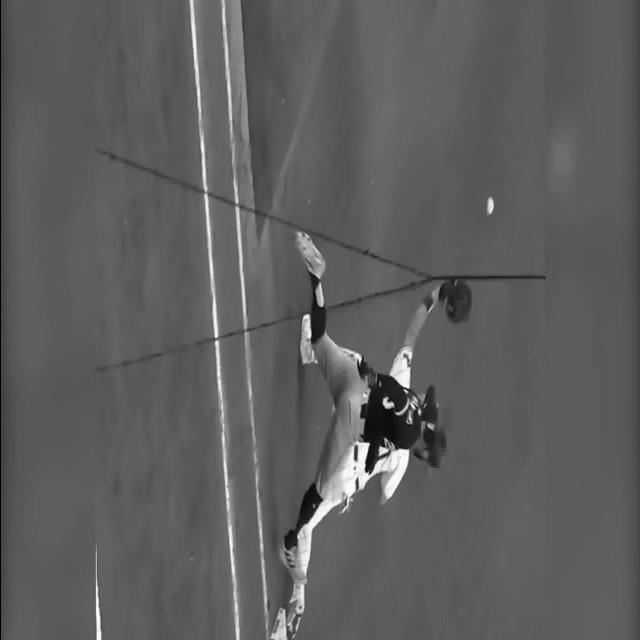base: (269, 607, 286, 640)
baseball: (485, 199, 494, 216)
baseball_glove: (439, 280, 471, 325)
shoe: (294, 231, 325, 280), (278, 531, 306, 585), (299, 313, 315, 365), (285, 598, 304, 640)
